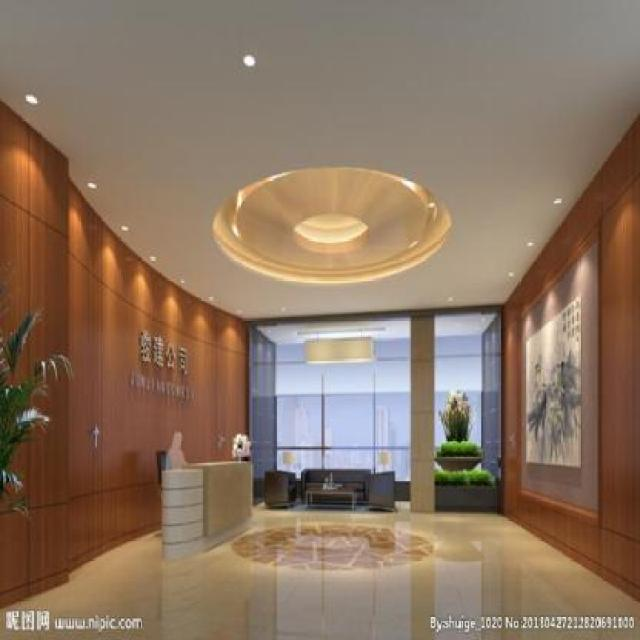frontdesk: (152, 432, 262, 562)
